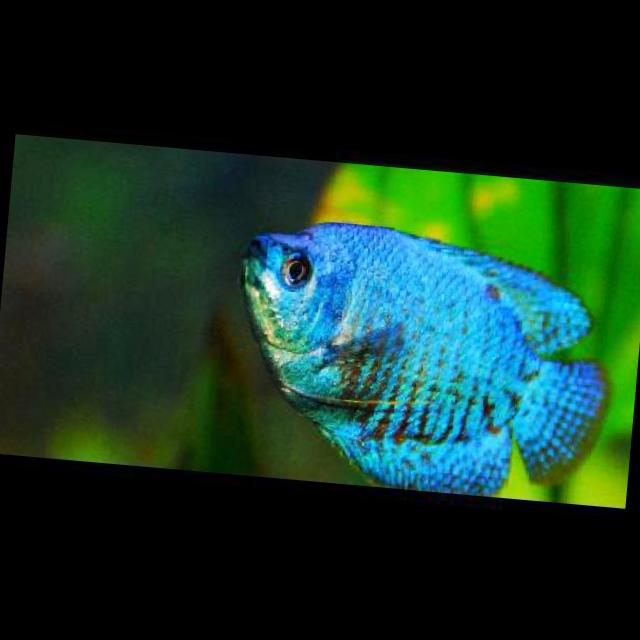Gourami: (220, 200, 630, 504)
